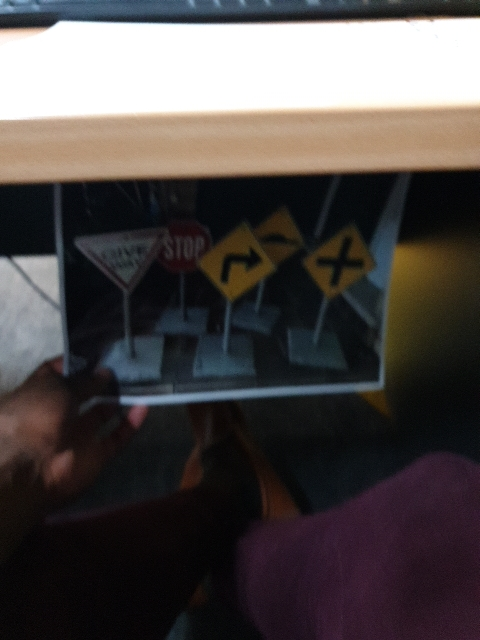giveway: (81, 226, 185, 297)
right: (192, 225, 275, 305)
stop: (151, 207, 230, 280)
